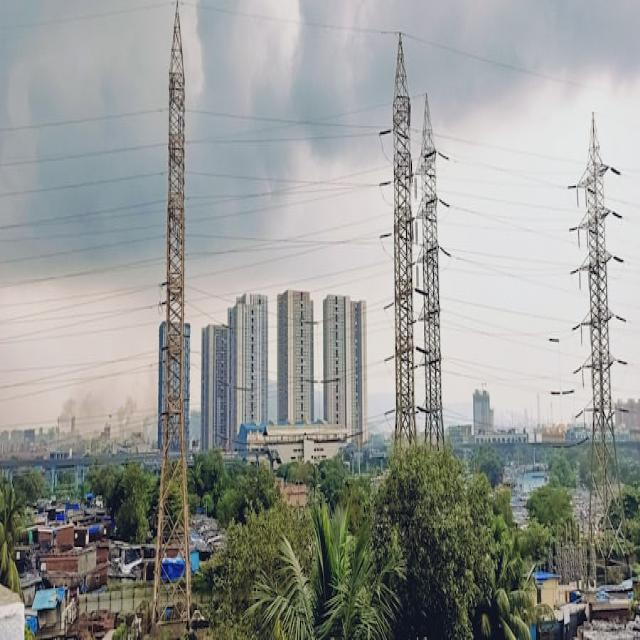transmission tower: (132, 25, 248, 602), (534, 53, 630, 542), (354, 36, 426, 533)
